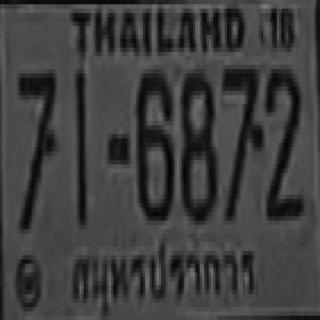N01: (74, 67, 85, 223), (75, 71, 86, 223)
N02: (264, 65, 301, 216)
N06: (134, 69, 172, 216)
N07: (220, 65, 261, 216), (16, 69, 54, 229)
N08: (179, 69, 216, 220)
P57: (63, 235, 261, 316)
